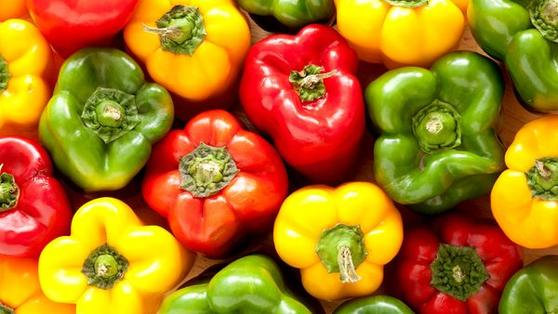pepper: (236, 28, 367, 164), (146, 114, 282, 243)
